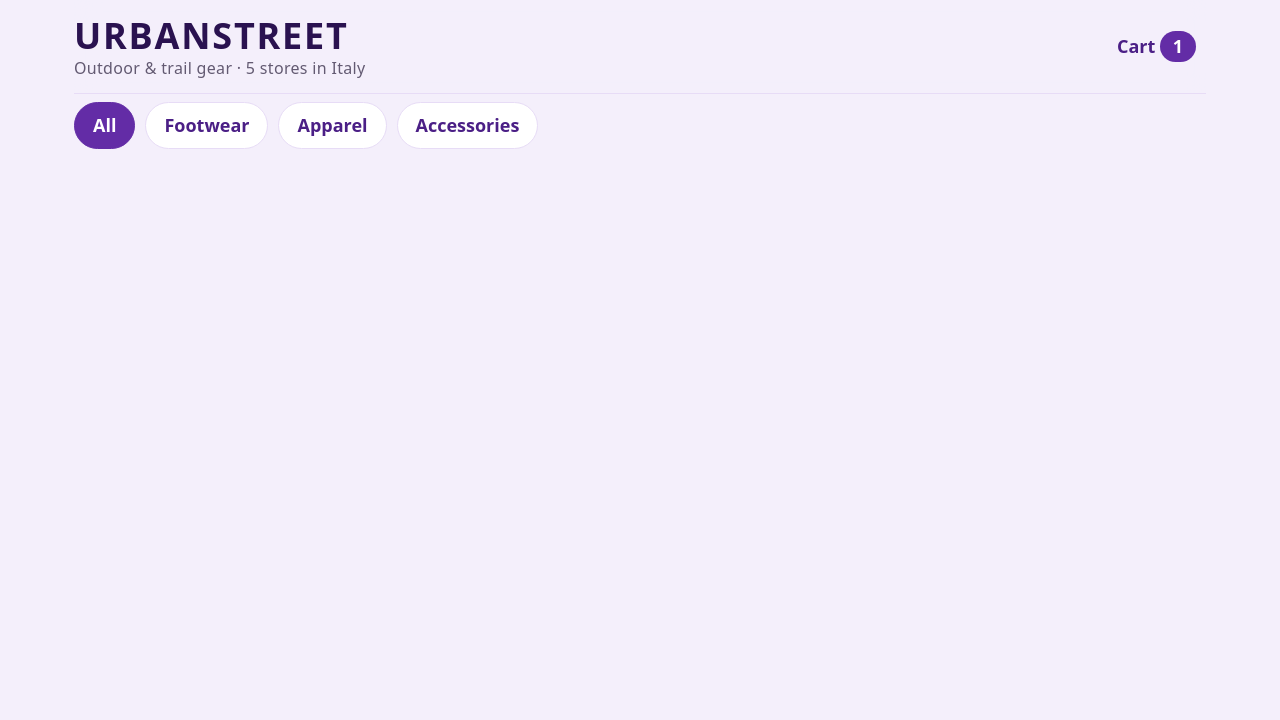
Test case: a sold-out item with a near restock and an alternative › the drawer shows the restock date with Notify me under the offer line, and Notify me is a RUM action
The width and height of the screenshot is (1280, 720).
Expected: the text with test id "cart-count" reads "1", [1173, 34, 1183, 58]
Click the button "Cart 1".
click(1156, 47)  # box [1107, 25, 1206, 68]
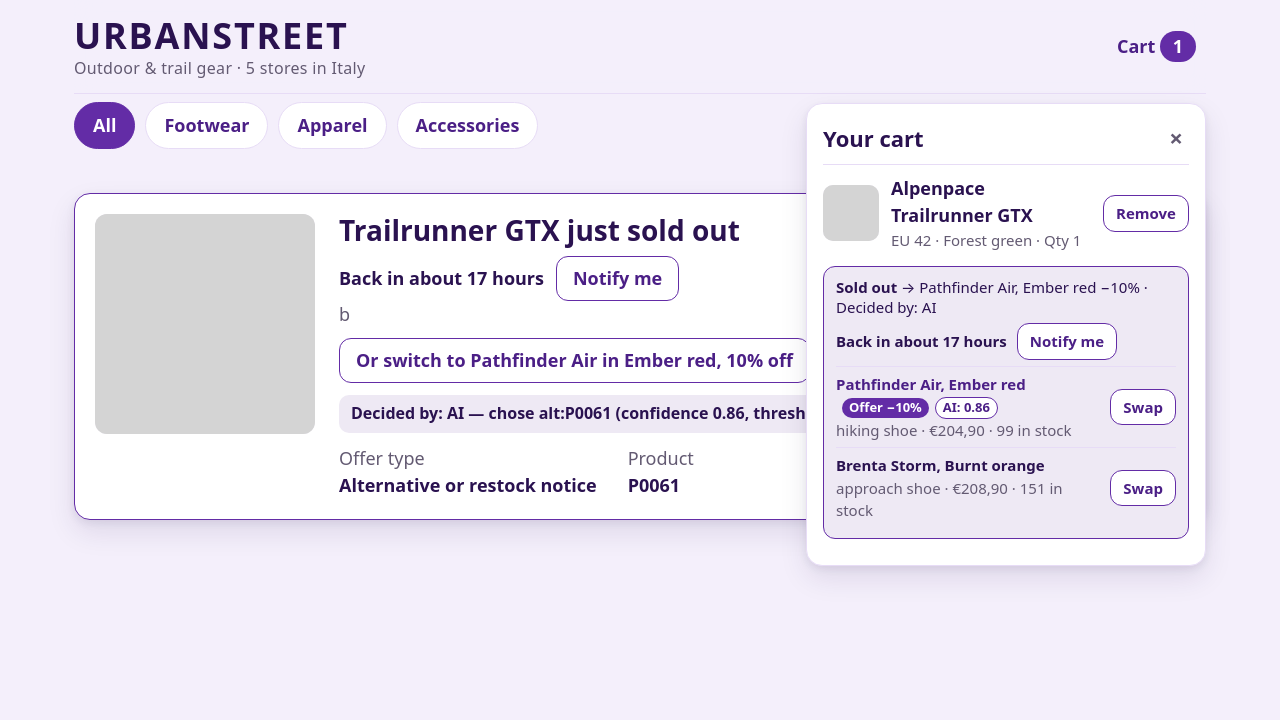
Now the element with test id "cart-offer-line" reads "Sold out → Pathfinder Air, Ember red −10% · Decided by: AI", box [836, 277, 1176, 317]
Now the element with test id "cart-offer-restock" reads "Back in about 17 hours Notify me", box [836, 331, 1007, 351]
Click the button "Notify me" below "Pathfinder Air, Ember red −10%".
click(1067, 341)  # box [1017, 323, 1117, 360]
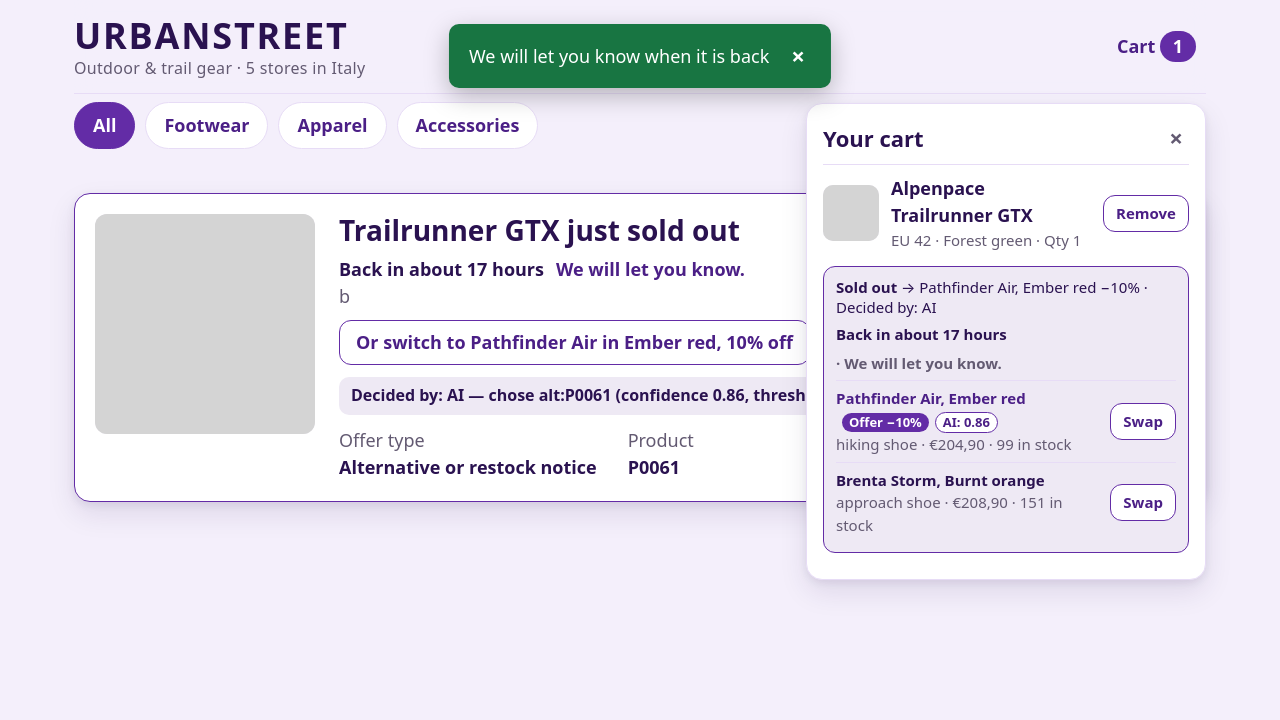
Now the element with test id "cart-offer-restock" shows "We will let you know.", box [836, 353, 1002, 373]
